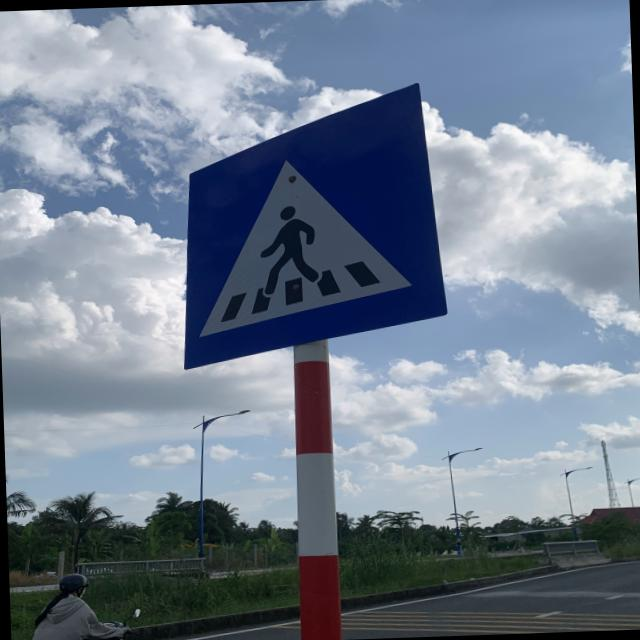Giao_Nhau_Duong_Uu_Tien: (174, 80, 451, 368)
